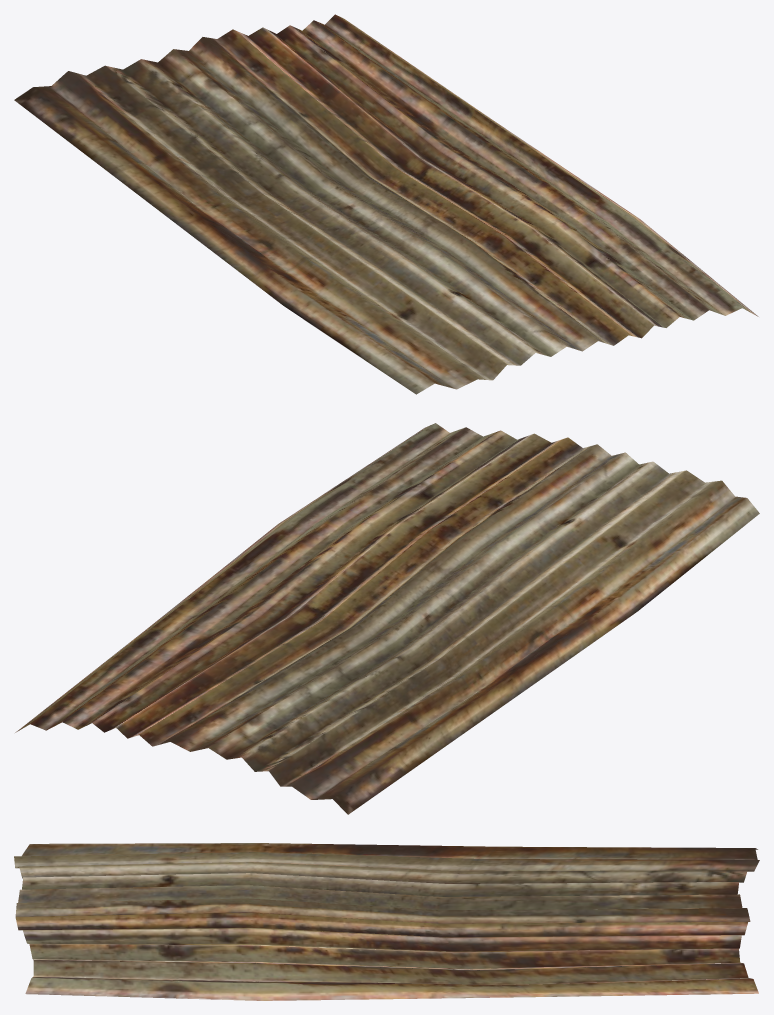
Rendered from Rusted_ShortSheet.FBX.
3 renders of one model, top to bottom at view 1: azimuth 30°, elevation 25°; view 2: azimuth 150°, elevation 25°; view 3: azimuth 270°, elevation 25°, orthographic. The views are drawn at different scales.
Visible parts, largest first — view 1: Rusted_ShortSheet; view 2: Rusted_ShortSheet; view 3: Rusted_ShortSheet.
Boxes of the visible parts, x1,y1,x2,y2 form: Rusted_ShortSheet: (14, 14, 758, 394); Rusted_ShortSheet: (15, 423, 759, 814); Rusted_ShortSheet: (14, 843, 759, 1000).
Bounding box in the file's own units: 110 × 8.06 × 223.
